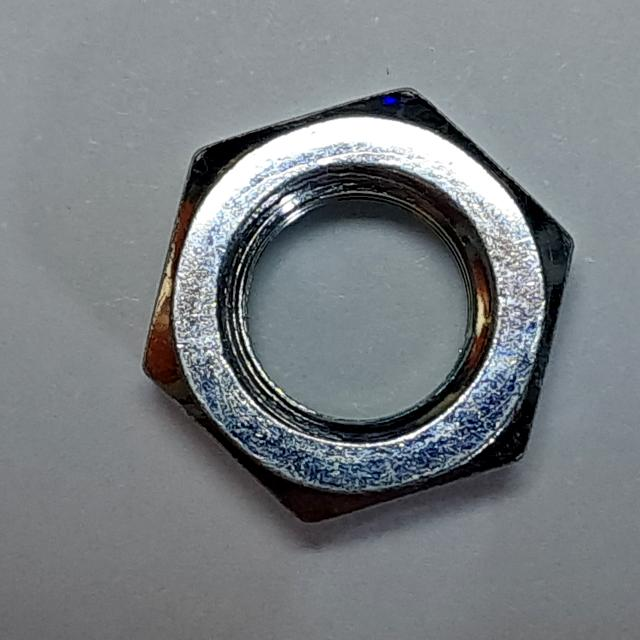Excellent: (128, 72, 600, 548)
